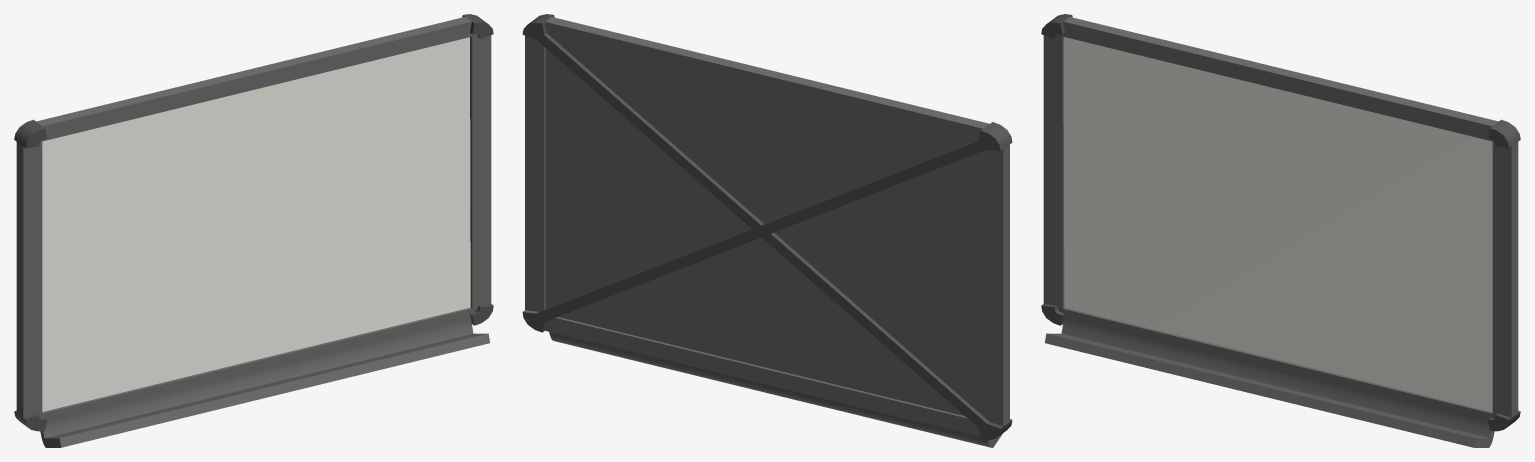
Rendered from whiteboardBoard.fbx.
3 views of the same model, side by side, from view 1: azimuth 30°, elevation 25°; view 2: azimuth 150°, elevation 25°; view 3: azimuth 330°, elevation 25° (orthographic). The views are drawn at different scales.
Visible parts, largest first — view 1: board; view 2: board; view 3: board.
Boxes of the visible parts, x1,y1,x2,y2 form: board: (14,14,493,447); board: (522,14,1012,447); board: (1041,14,1520,447).
Bounding box in the file's own units: 181 × 118 × 18.42.
